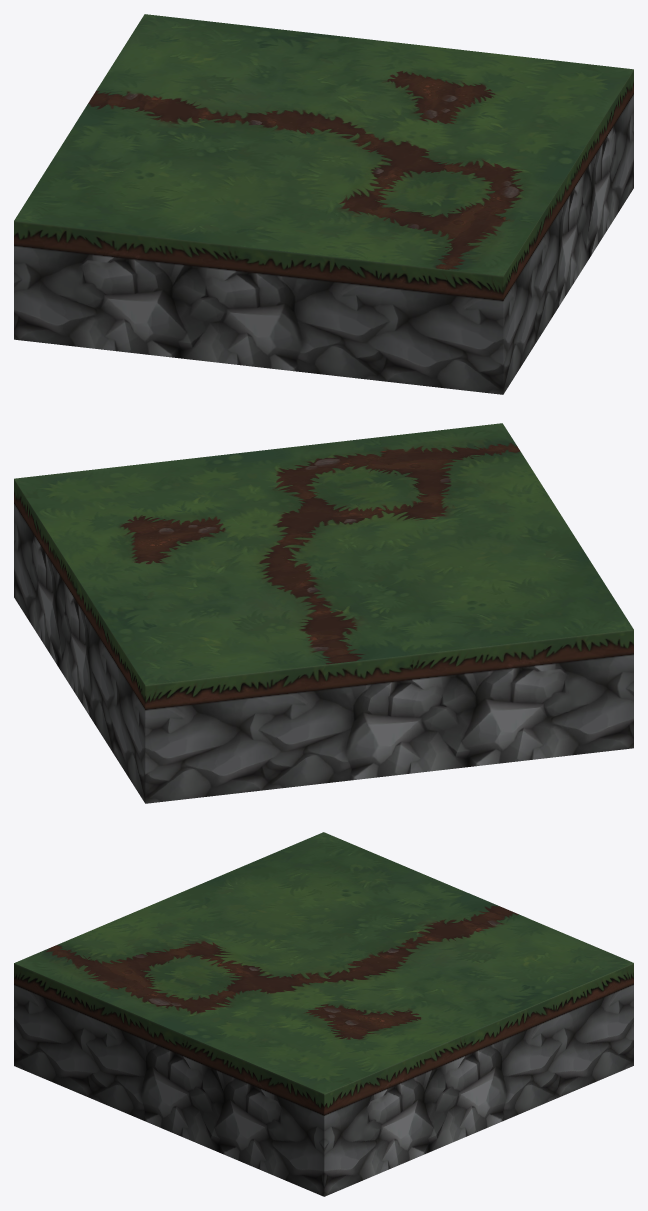
The picture shows the model from 3 angles, top to bottom: view 1: azimuth 30°, elevation 25°; view 2: azimuth 150°, elevation 25°; view 3: azimuth 270°, elevation 25°; orthographic projection. The views are drawn at different scales.
Visible parts, largest first — view 1: visual.003, visual, visual.001; view 2: visual.003, visual, visual.001; view 3: visual.003, visual, visual.001.
Boxes of the visible parts, <box> form: visual.003: <box>14,70,633,394</box>; visual: <box>14,14,633,275</box>; visual.001: <box>75,63,556,273</box>; visual.003: <box>14,479,633,803</box>; visual: <box>14,423,633,684</box>; visual.001: <box>90,432,555,665</box>; visual.003: <box>14,963,633,1196</box>; visual: <box>14,832,633,1093</box>; visual.001: <box>28,893,527,1053</box>.
Size of what is drawn, in the model's own units: 108 by 19.73 by 108.
Materials: 3 (3 with a texture image).
